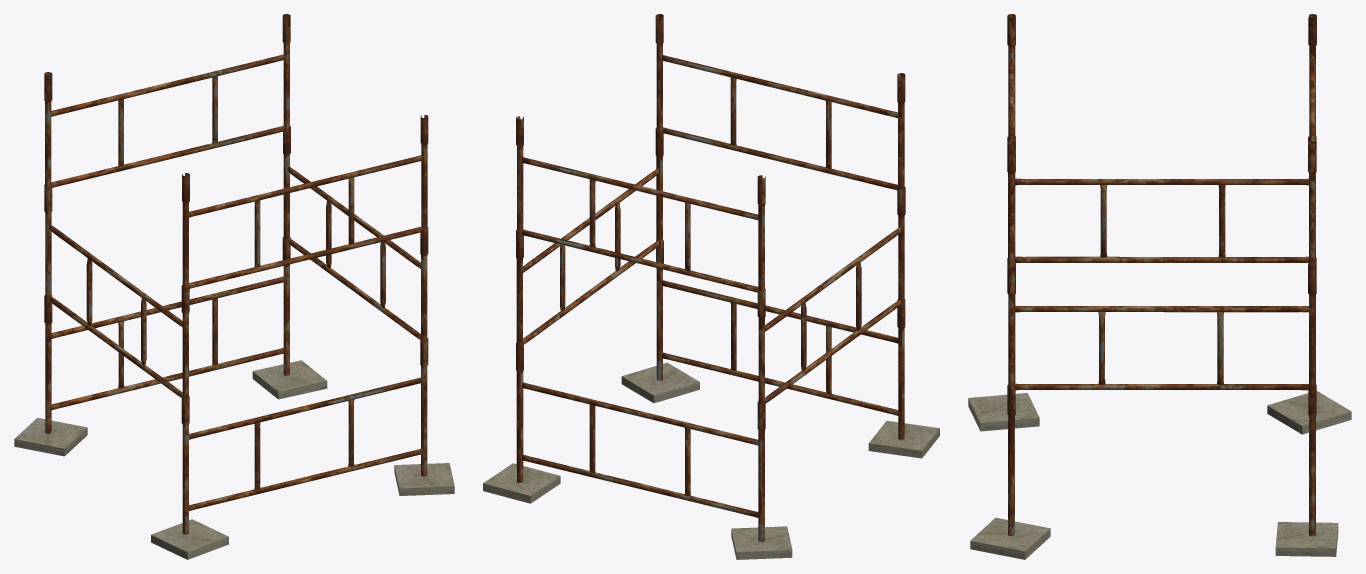
Rendered from folding.glb.
3 views of the same model, side by side, from view 1: azimuth 30°, elevation 25°; view 2: azimuth 150°, elevation 25°; view 3: azimuth 270°, elevation 25° (orthographic). The views are drawn at different scales.
Parts seen in each view (by area): view 1: Cylinder.001, Cube.002; view 2: Cylinder.001, Cube.002; view 3: Cylinder.001, Cube.002.
Boxes of the visible parts, box(x1,y1,x2,y2) form: Cylinder.001: box(44, 14, 428, 534); Cube.002: box(14, 360, 454, 559); Cylinder.001: box(516, 14, 905, 541); Cube.002: box(483, 362, 939, 559); Cylinder.001: box(1007, 14, 1316, 536); Cube.002: box(968, 391, 1351, 559).
Bounding box in the file's own units: 3.2 × 3.7 × 3.21.
2 materials, 2 textured.
